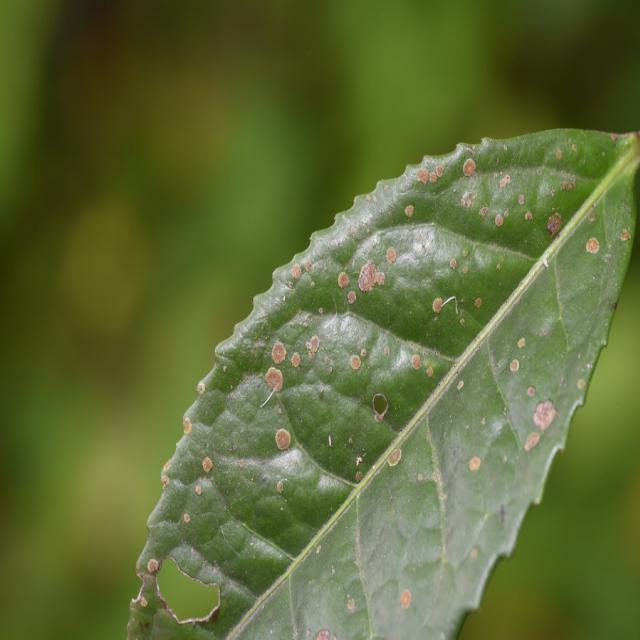Tea algae leaf spot: (168, 139, 577, 551)
